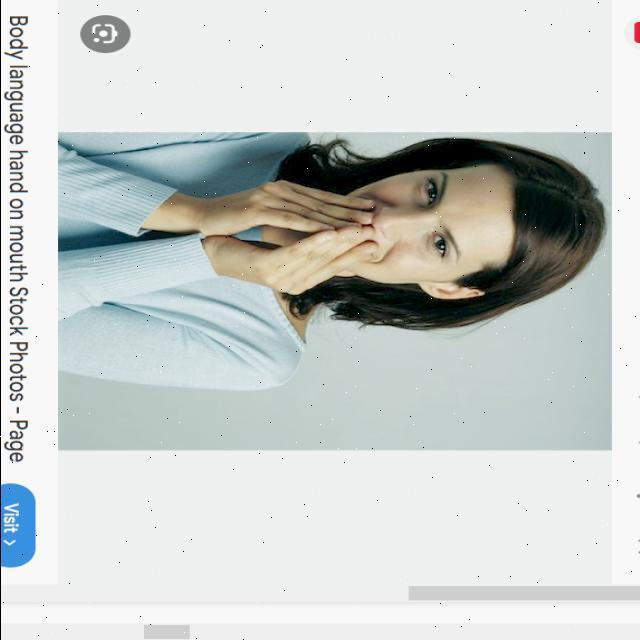face_with_hand: (278, 165, 510, 303)
